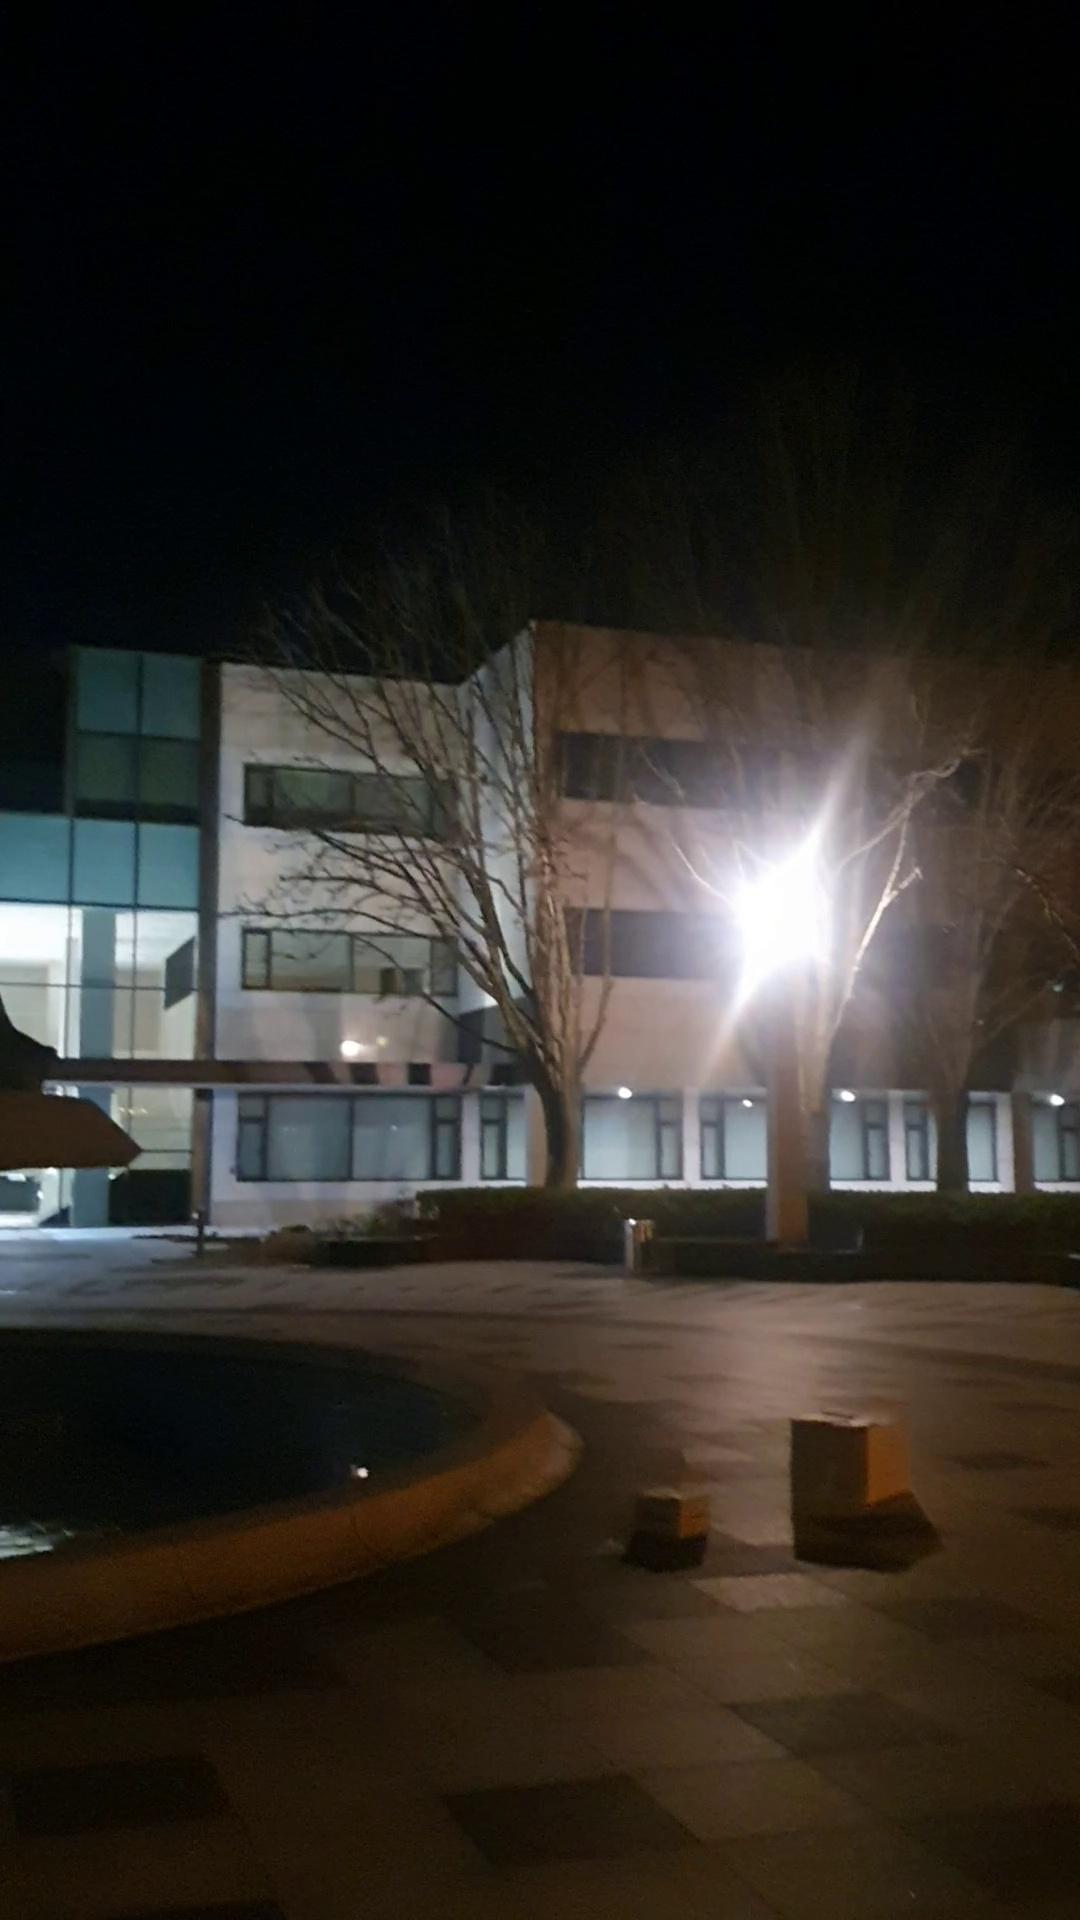Box: (786, 1403, 924, 1528), (624, 1477, 700, 1557)
